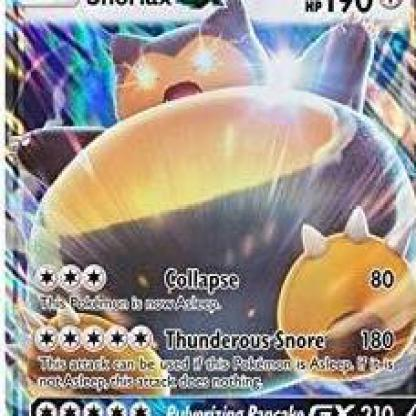Snorlax: (7, 1, 415, 415)
